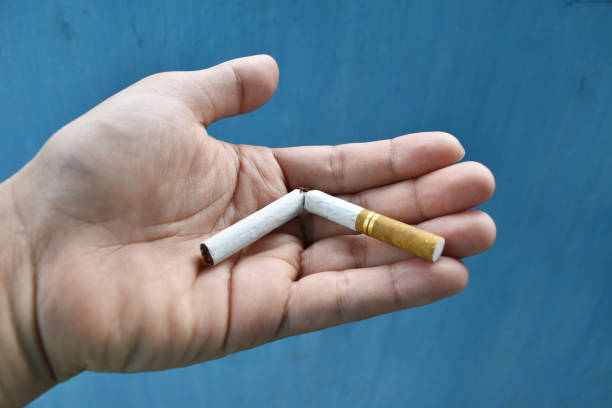cigarette: (302, 188, 448, 264), (196, 186, 310, 267)
